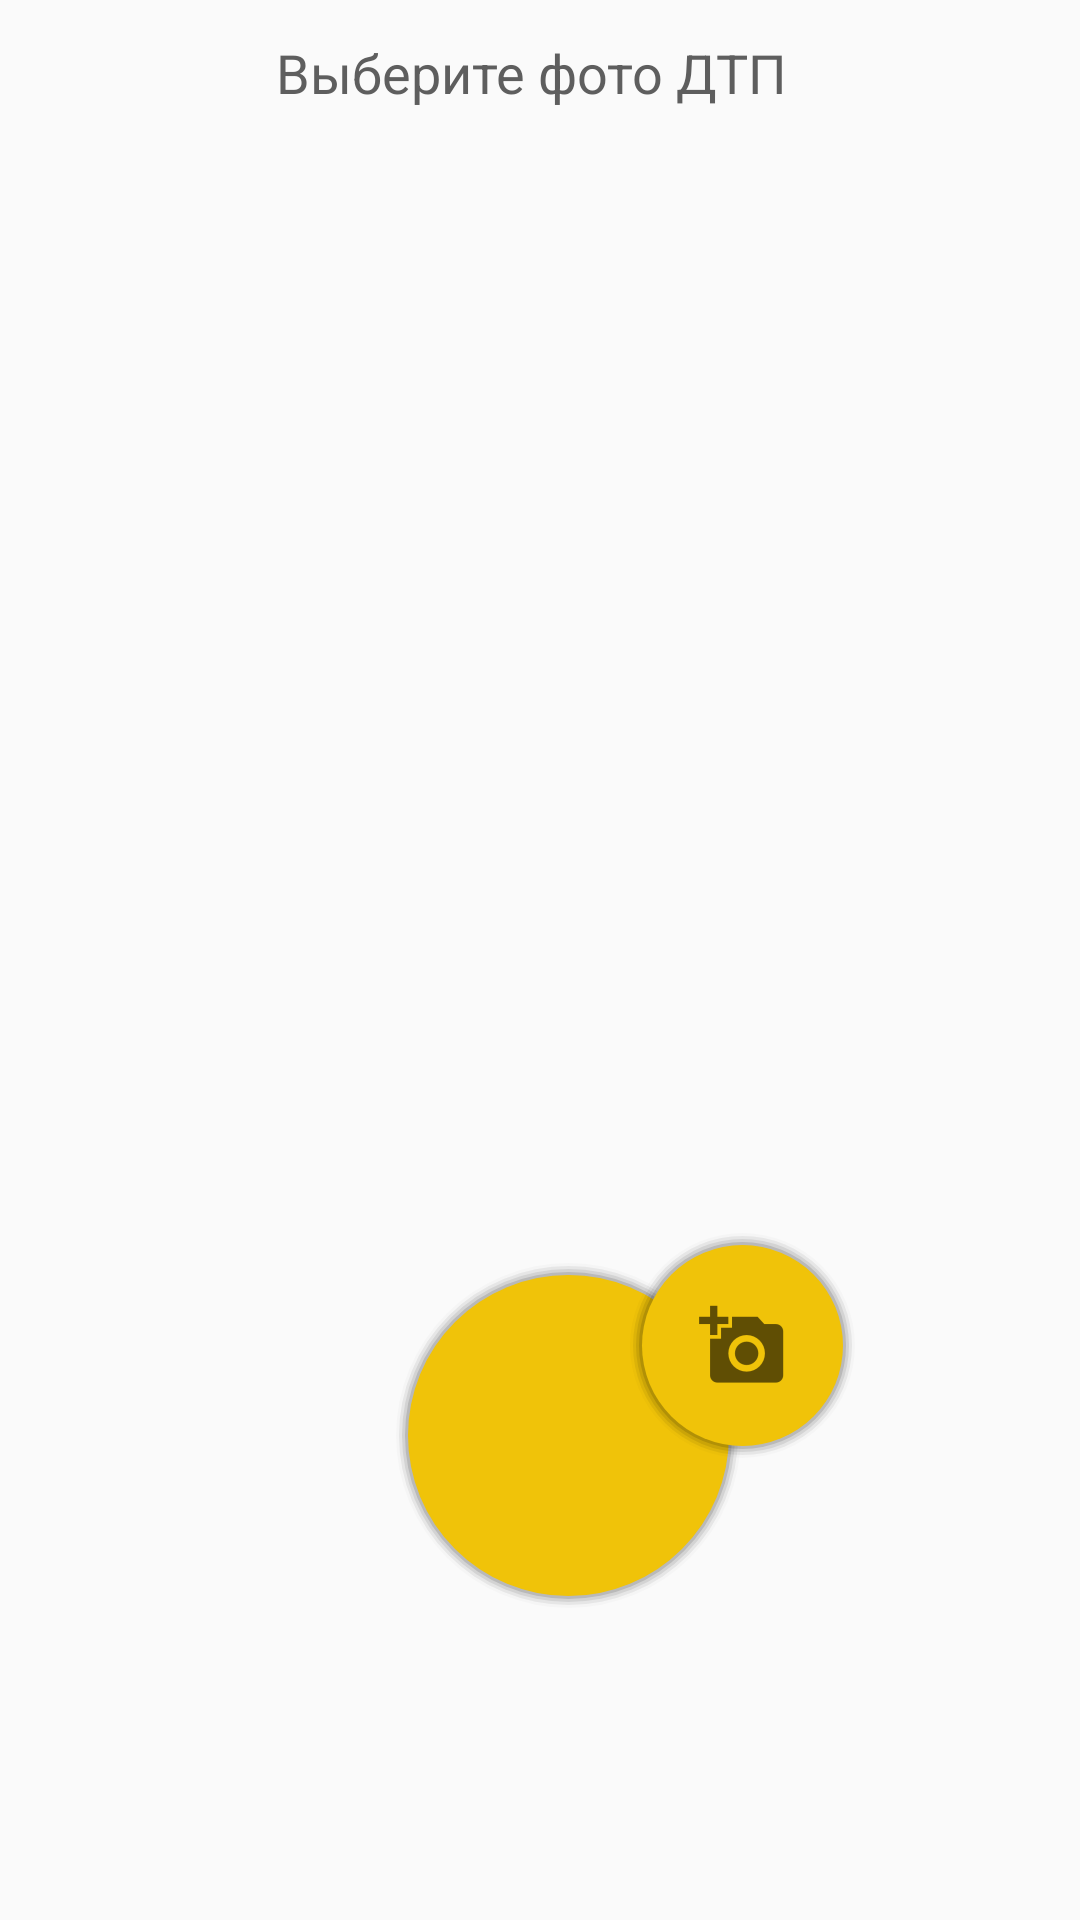

Icon bounding boxes for this 1080px x 1920px phone screenshot, format box(x1, y1, x2, y2):
add photo: box(630, 1239, 849, 1458)
